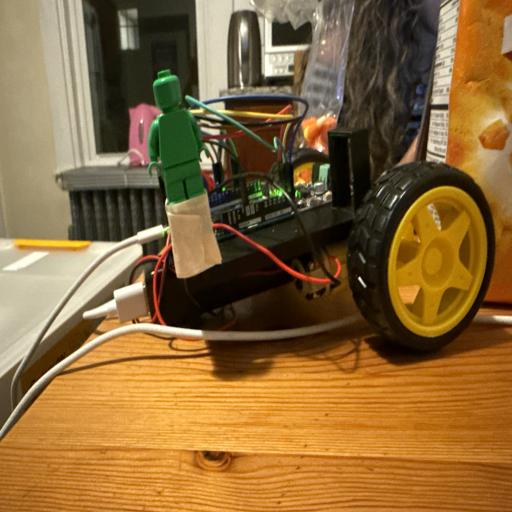Minifig: (148, 69, 209, 204)
